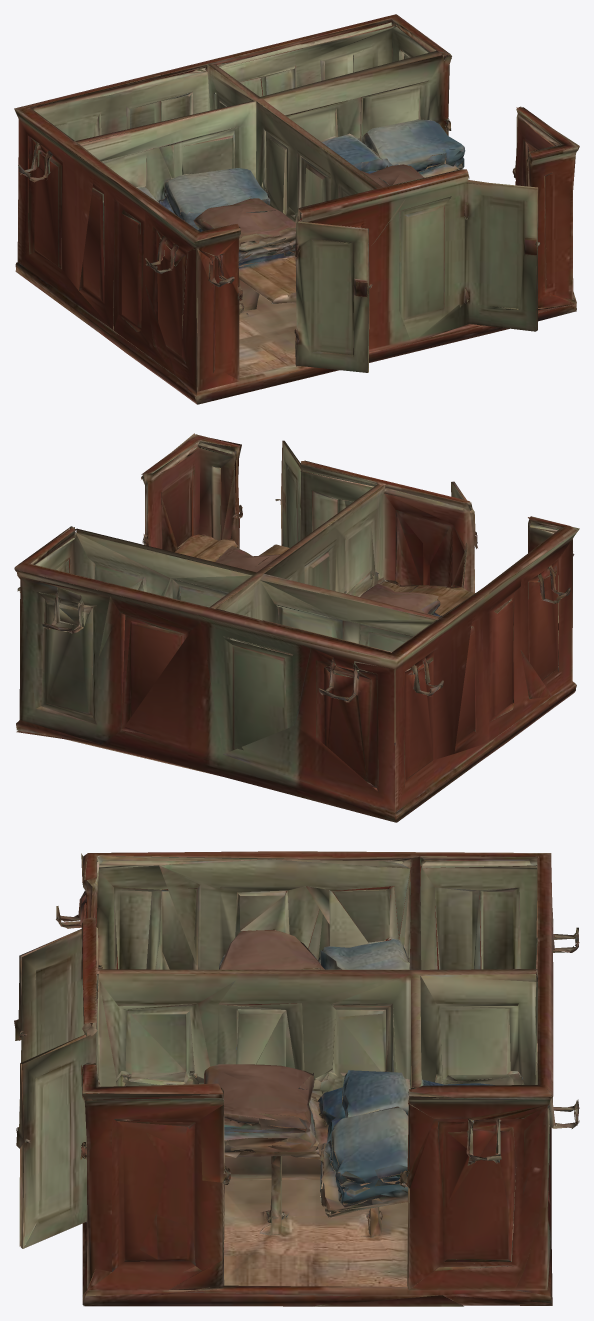
Rendered from meetinghouse-box-pew-block.glb.
3 views of the same model, one above another, from view 1: azimuth 30°, elevation 25°; view 2: azimuth 150°, elevation 25°; view 3: azimuth 270°, elevation 25° (orthographic). The views are drawn at different scales.
Visible parts, largest first — view 1: Mesh_0; view 2: Mesh_0; view 3: Mesh_0.
Part boxes in pixels (bbox=[...]): Mesh_0: bbox=[14, 14, 579, 404]; Mesh_0: bbox=[14, 433, 579, 822]; Mesh_0: bbox=[14, 851, 579, 1306].
Bounding box in the file's own units: 1.9 × 0.7354 × 1.72.
1 material, 1 textured.
